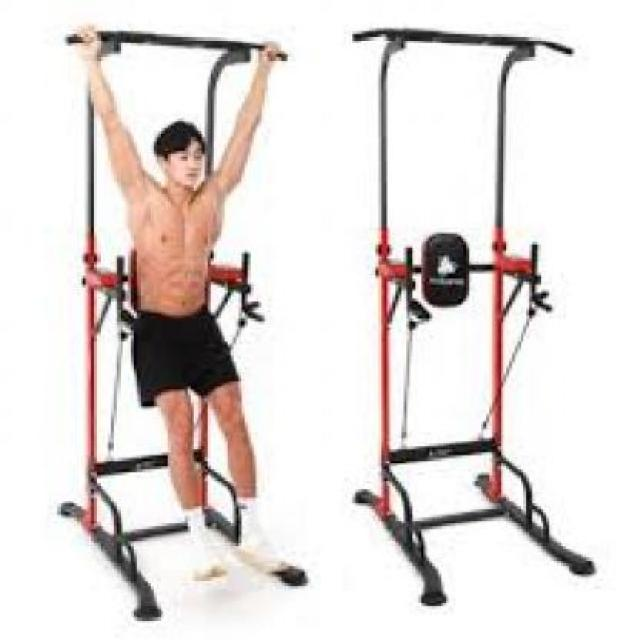chinning dipping: (60, 20, 311, 622), (350, 23, 598, 603)
